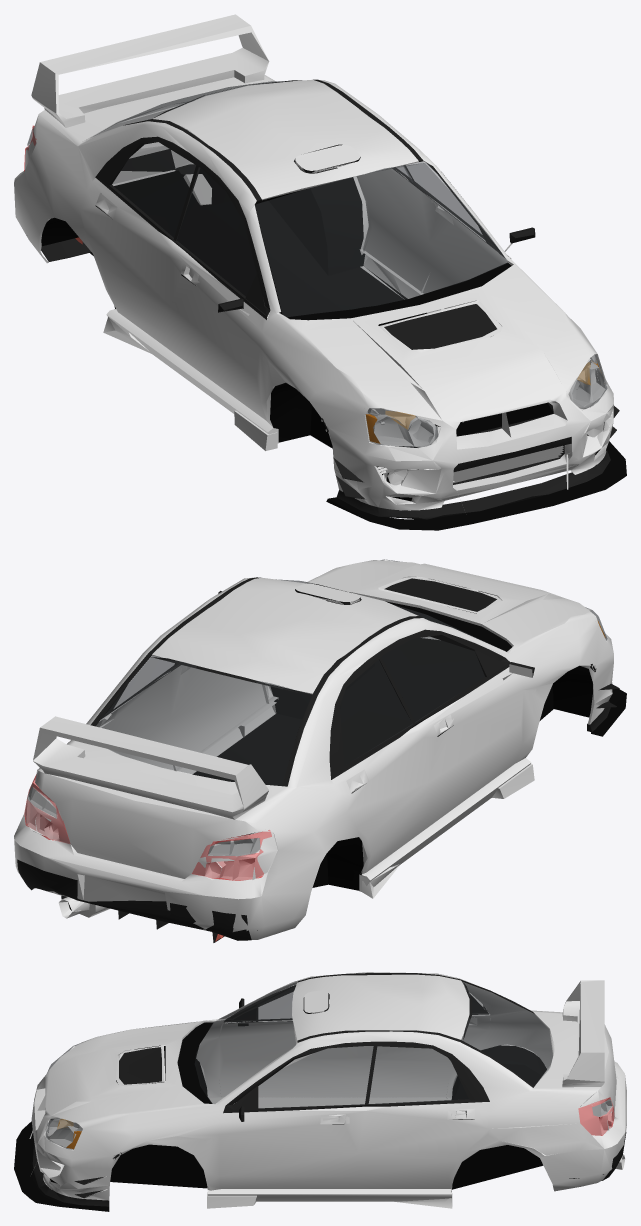
File: subaru-wrx-sti_lod.glb
3 views of the same model, one above another, from view 1: azimuth 30°, elevation 25°; view 2: azimuth 150°, elevation 25°; view 3: azimuth 270°, elevation 25° (orthographic). The views are drawn at different scales.
Visible parts, largest first — view 1: body; view 2: body; view 3: body.
Boxes of the visible parts, box(x1,y1,x2,y2) form: body: box(14, 14, 626, 530); body: box(14, 559, 626, 942); body: box(14, 972, 626, 1211).
Size of the model in its own units: 1.99 by 1.3 by 4.42.
Materials: 4 (3 with a texture image).
